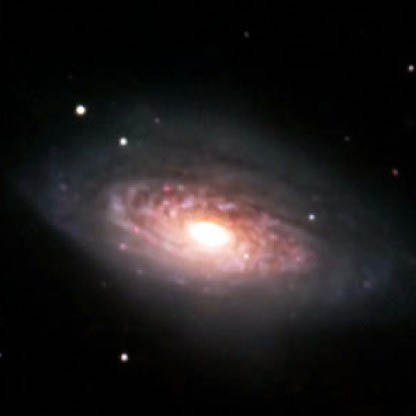NGC 3521: (56, 83, 387, 371)
